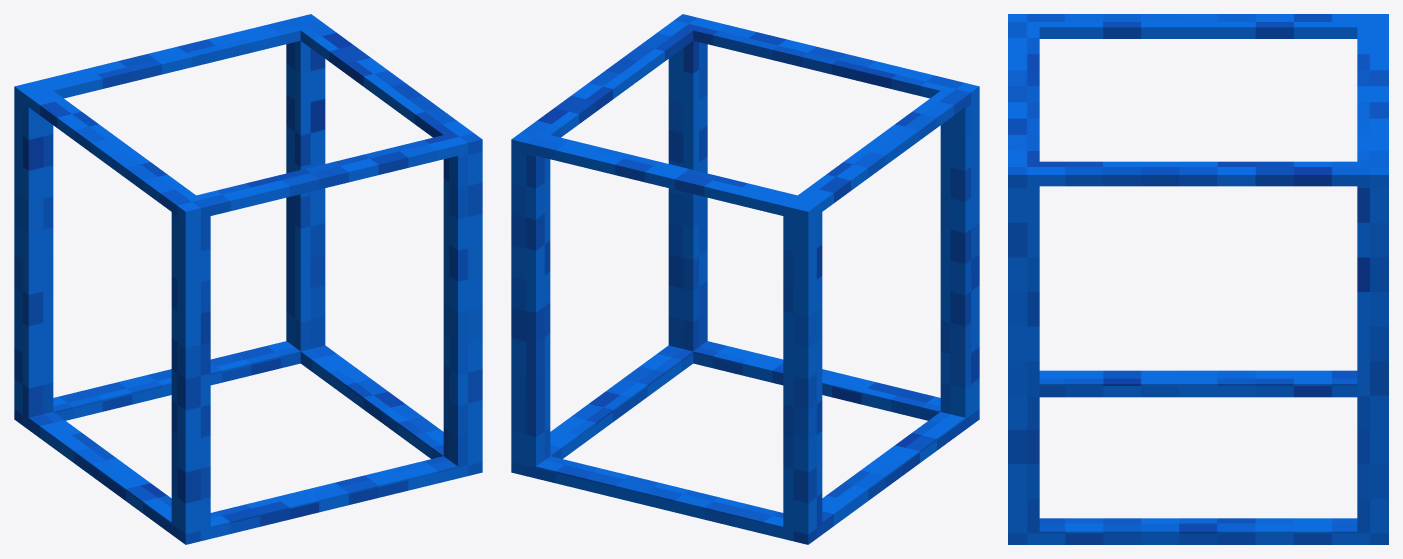
File: trappreviewAir.fbx
The picture shows the model from 3 angles, left to right: view 1: azimuth 30°, elevation 25°; view 2: azimuth 150°, elevation 25°; view 3: azimuth 270°, elevation 25°; orthographic projection. The views are drawn at different scales.
Visible parts, largest first — view 1: previewAir; view 2: previewAir; view 3: previewAir.
Boxes of the visible parts, left/top/right/bottom form: previewAir: left=14, top=14, right=482, bottom=544; previewAir: left=511, top=14, right=979, bottom=544; previewAir: left=1008, top=14, right=1388, bottom=544.
Bounding box in the file's own units: 200 × 214 × 200.
1 material, 1 textured.
